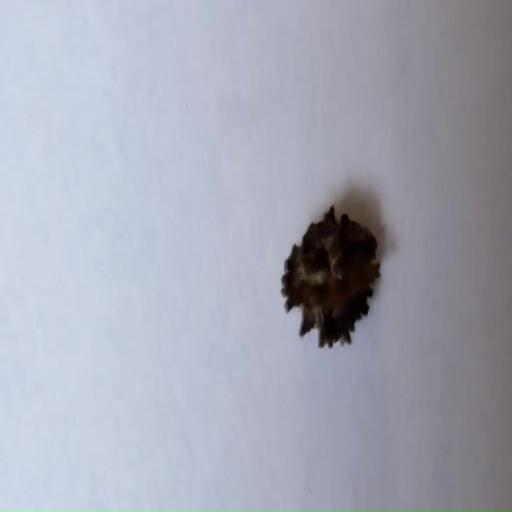papaya_seed: (274, 191, 390, 379)
